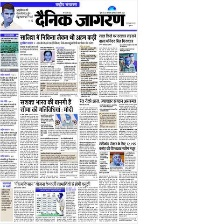news_paper: (0, 0, 139, 222)
